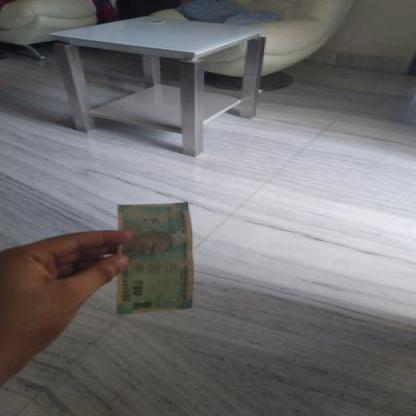New50Front: (116, 205, 197, 312)
